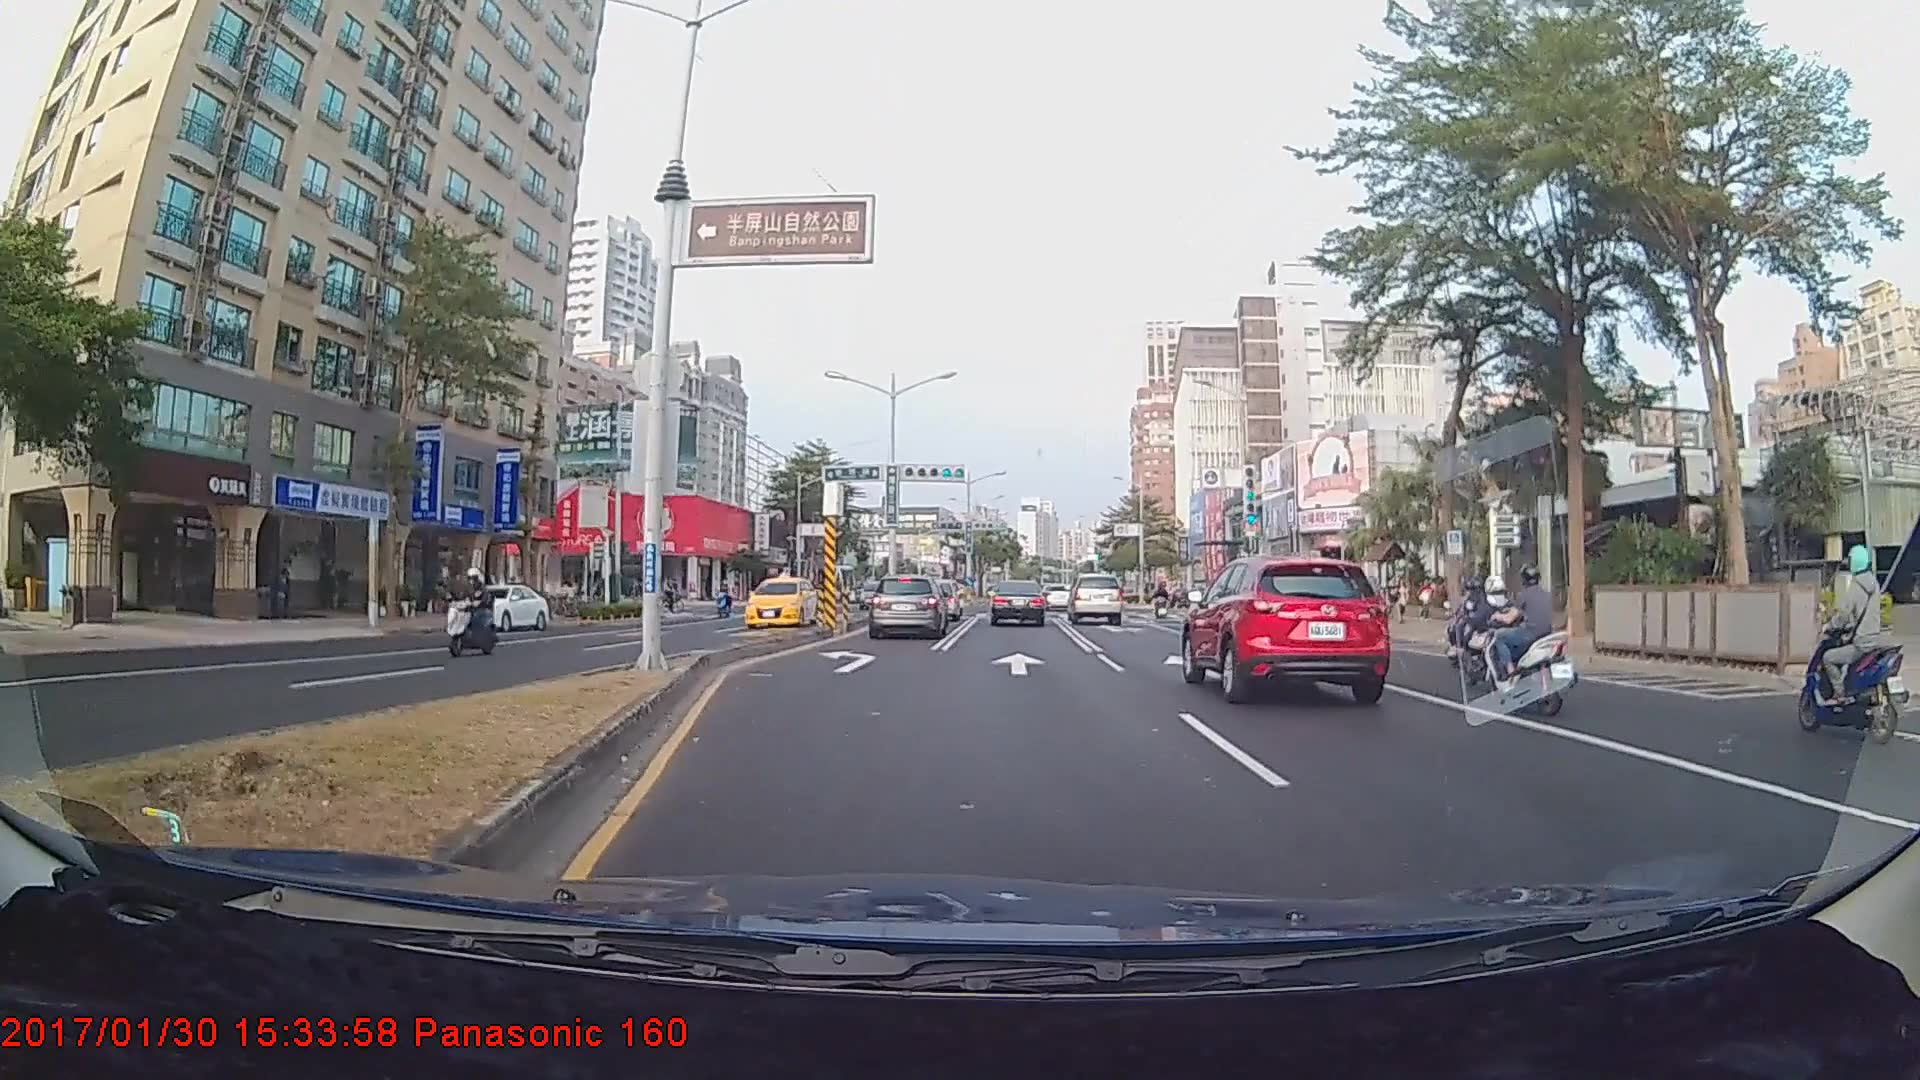rider: (1802, 539, 1914, 750), (1482, 562, 1589, 718), (1440, 569, 1491, 675), (446, 569, 491, 661), (446, 574, 494, 652)
vehicle: (1184, 551, 1390, 699), (447, 582, 548, 633), (866, 574, 945, 639), (741, 576, 818, 629), (987, 578, 1046, 628), (1067, 573, 1124, 625)
